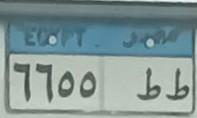5: (77, 69, 99, 101), (57, 70, 76, 100)
6: (35, 62, 55, 104), (12, 62, 32, 103)
Taa: (165, 66, 192, 104), (136, 67, 161, 103)
